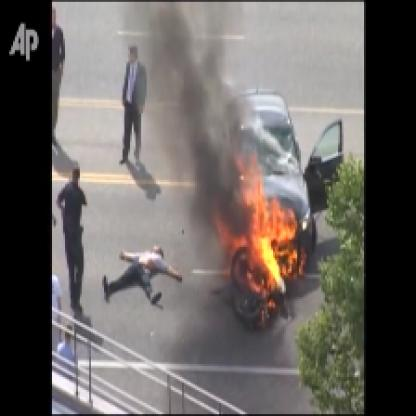Fire: (210, 147, 304, 314)
Smoke: (143, 2, 245, 234)
